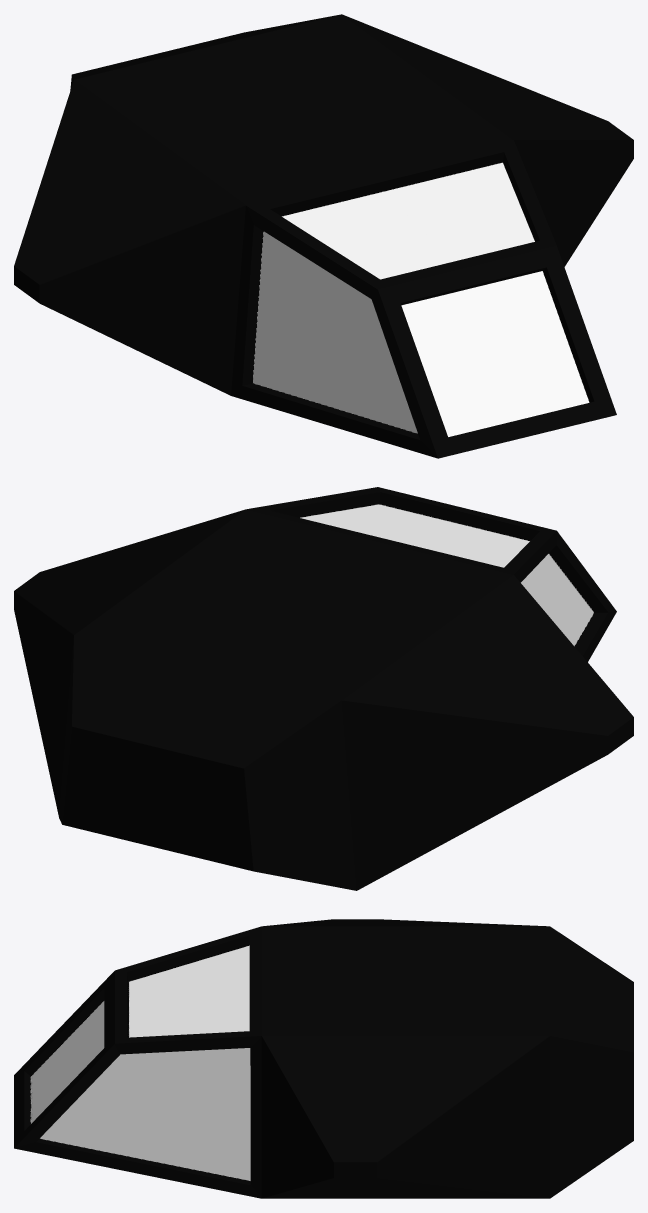
Rendered from dummy.obj.
The picture shows the model from 3 angles, top to bottom: view 1: azimuth 30°, elevation 25°; view 2: azimuth 150°, elevation 25°; view 3: azimuth 270°, elevation 25°; orthographic projection. The views are drawn at different scales.
Parts seen in each view (by area): view 1: Body; view 2: Body; view 3: Body.
Part boxes in pixels (left/top/right/bottom): Body: left=14, top=14, right=633, bottom=458; Body: left=14, top=487, right=633, bottom=890; Body: left=14, top=919, right=633, bottom=1198.
Size of the model in its own units: 3.99 by 1.2 by 4.3.
Materials: 1 (1 with a texture image).
